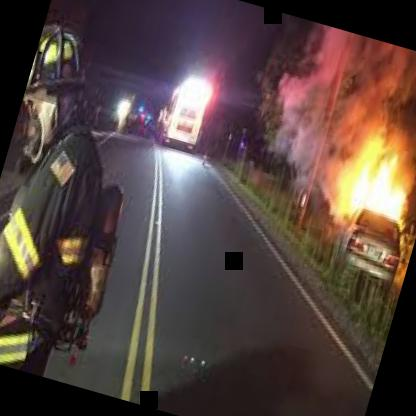fire: (321, 91, 416, 266)
